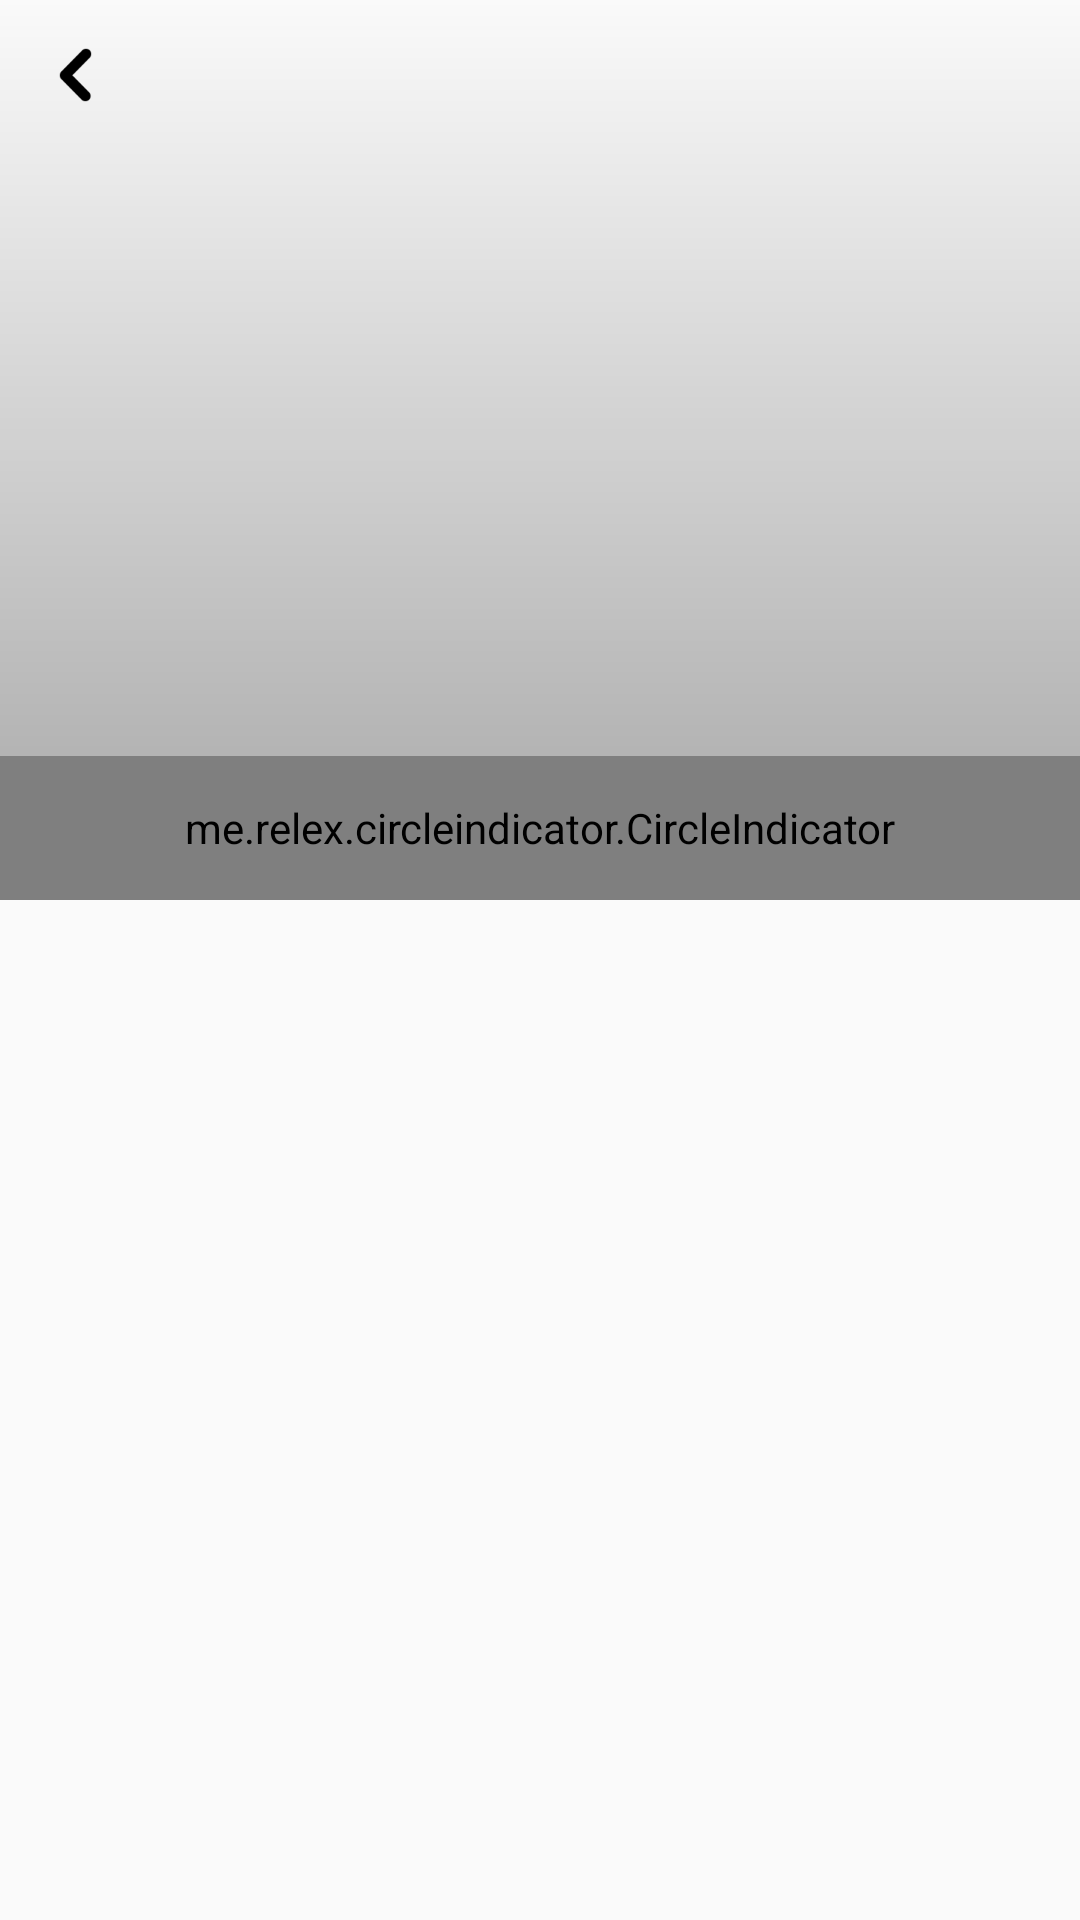

Point at icon controls on the screen. Image size 1080px x 1920px, points as point (x, y).
arrow topbar: point (75, 75)
